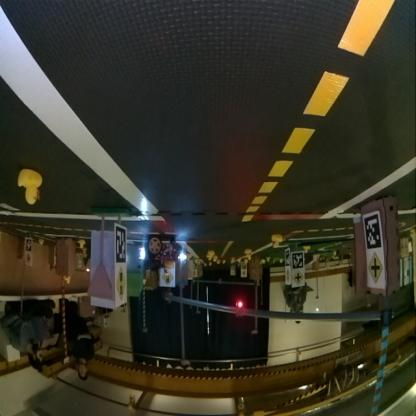Duckie: (16, 170, 42, 204), (162, 261, 174, 275), (271, 235, 281, 249), (244, 250, 250, 258), (78, 240, 84, 248), (208, 250, 213, 258)
Duckiebot: (138, 238, 184, 272)
Intersection sign: (367, 254, 382, 285), (292, 270, 302, 286)
QR code: (362, 214, 382, 249), (113, 224, 126, 262), (291, 254, 303, 270), (284, 249, 290, 268)
Signal sign: (115, 270, 126, 301), (160, 274, 174, 287)
Traffic light: (235, 302, 242, 318)
